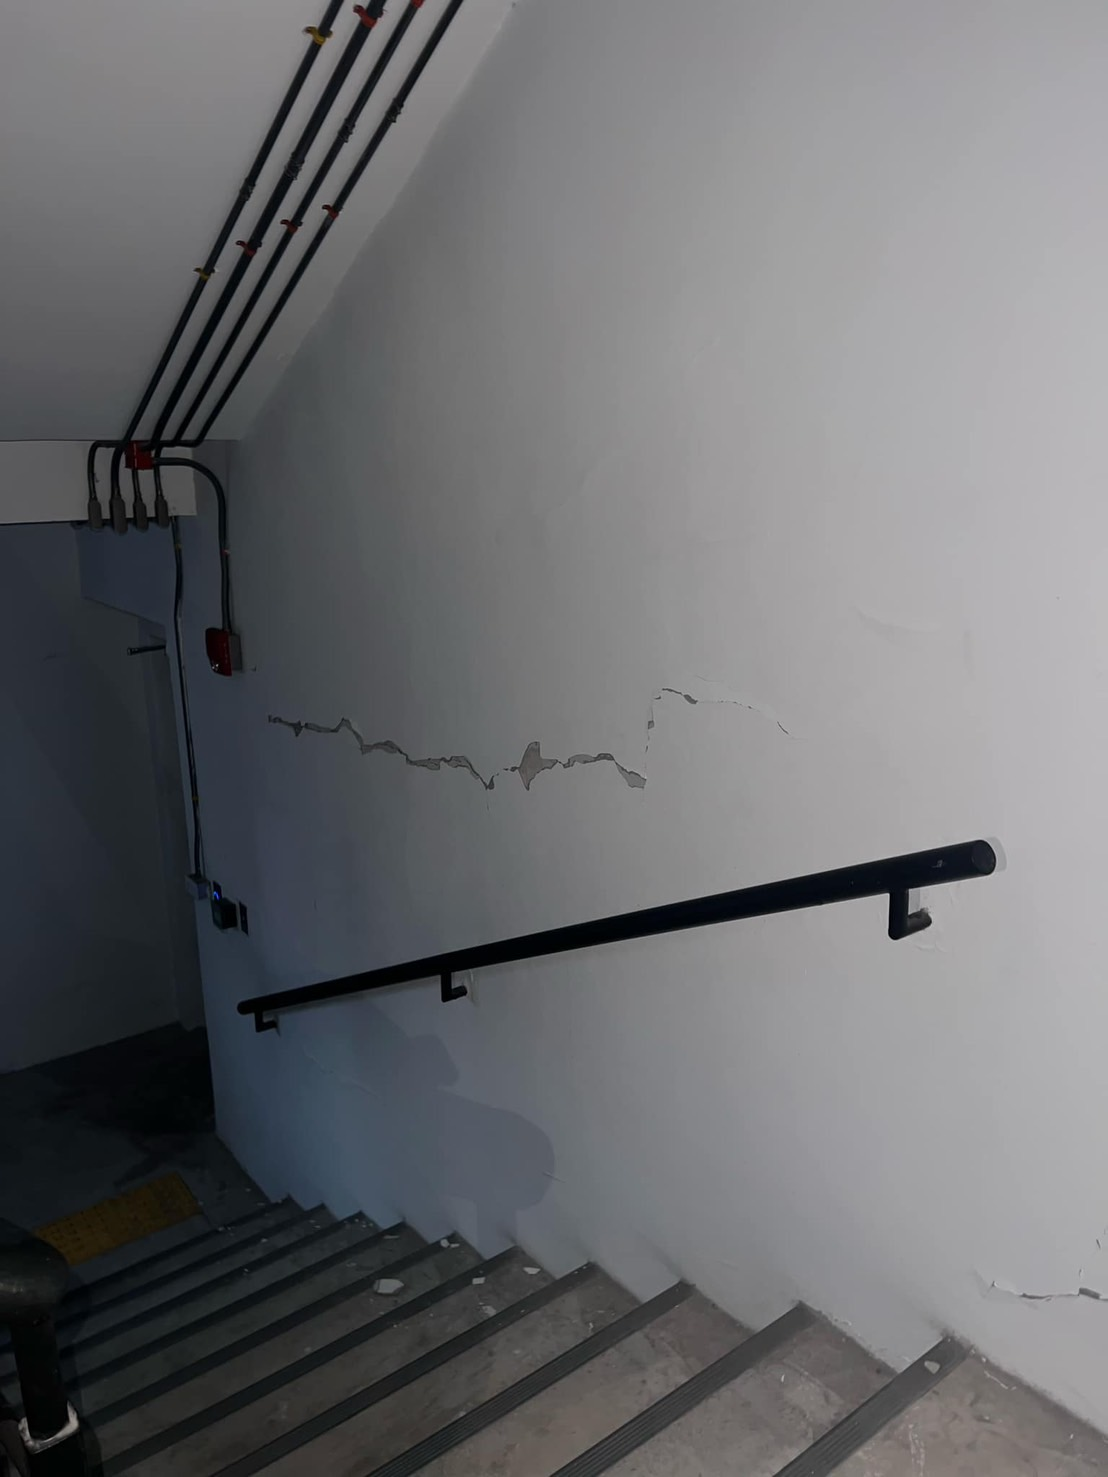Medium: (253, 662, 821, 845)
